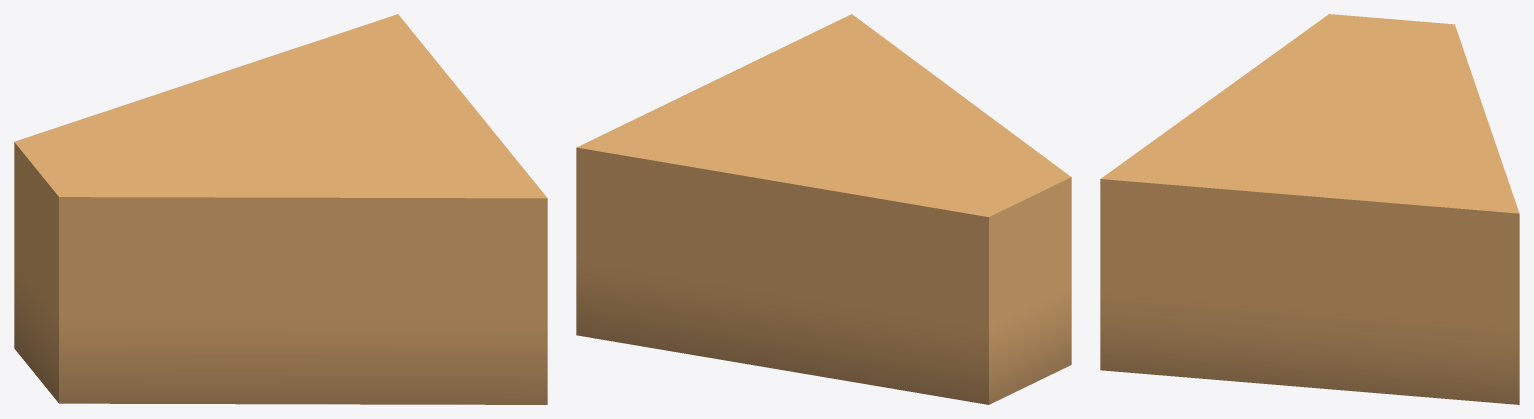
The model's file is PlatTri01.016.glb.
3 views of the same model, side by side, from view 1: azimuth 30°, elevation 25°; view 2: azimuth 150°, elevation 25°; view 3: azimuth 270°, elevation 25° (orthographic). The views are drawn at different scales.
Visible parts, largest first — view 1: PlatTri01.016; view 2: PlatTri01.016; view 3: PlatTri01.016.
Part boxes in pixels (x1,y1,x2,y2): PlatTri01.016: (14,14,547,404); PlatTri01.016: (576,14,1071,404); PlatTri01.016: (1100,14,1519,404).
Size of what is drawn, in the model's own units: 2.58 by 1.15 by 2.29.
Materials: 1 (1 with a texture image).
